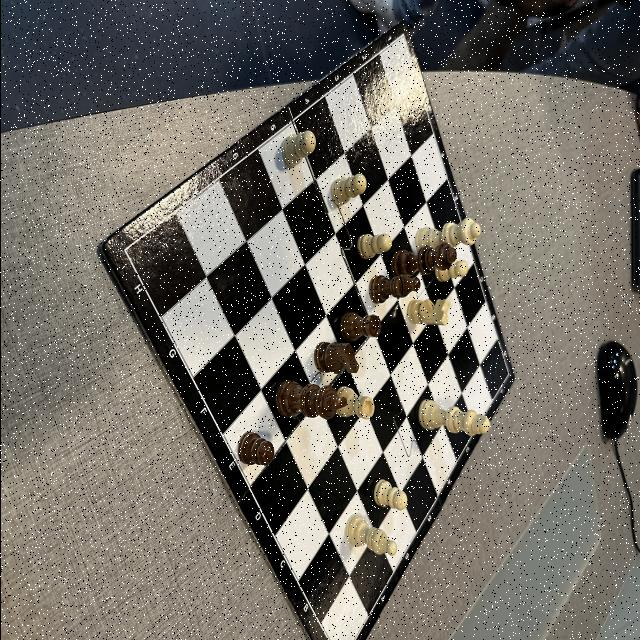Black-King: (274, 380, 346, 420)
Black-Knight: (312, 342, 358, 375)
Black-Pawn: (236, 431, 274, 466)
Black-Queen: (388, 242, 456, 276)
Black-Rook: (339, 312, 381, 342)
White-Bishop: (344, 514, 396, 556)
White-King: (416, 398, 489, 436)
White-Knight: (368, 274, 420, 304), (406, 298, 450, 326)
White-Pawn: (280, 130, 316, 168), (329, 174, 366, 206), (372, 478, 407, 511), (356, 233, 391, 260), (433, 260, 468, 282)
White-Queen: (414, 217, 480, 253)
White-Rook: (336, 386, 374, 419)
